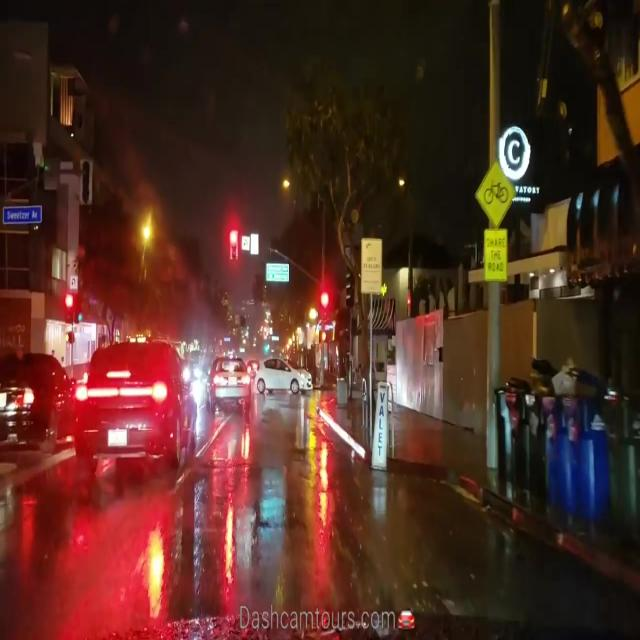Car: (70, 343, 196, 470), (1, 349, 69, 451), (202, 355, 251, 410), (253, 355, 312, 397)
